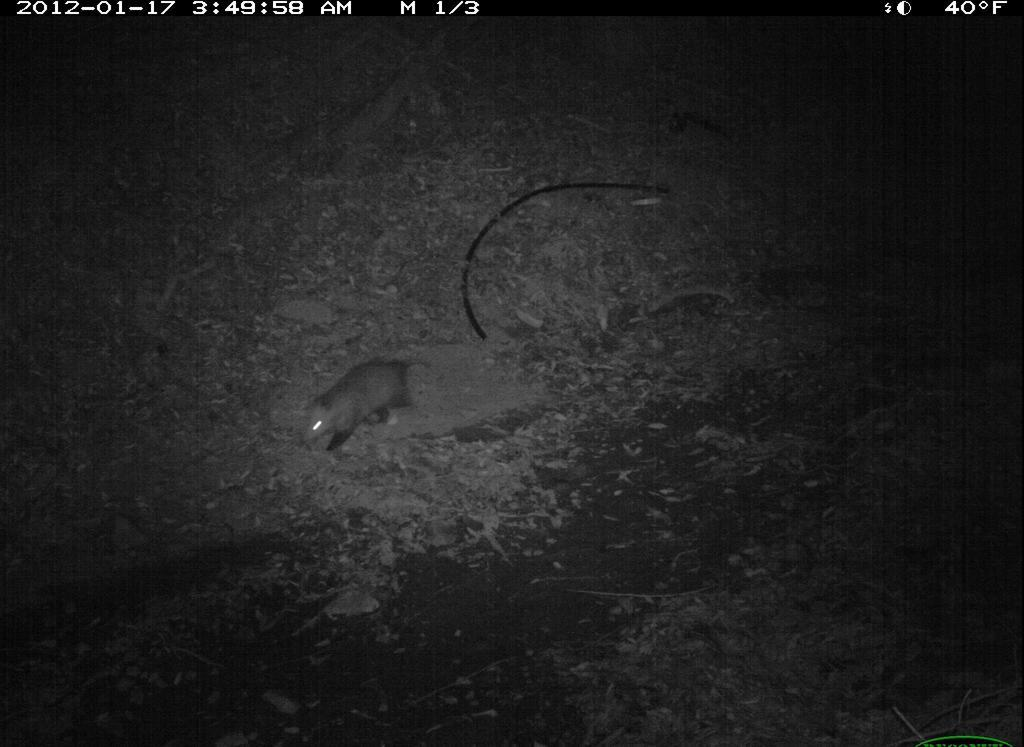opossum: (276, 337, 438, 475)
